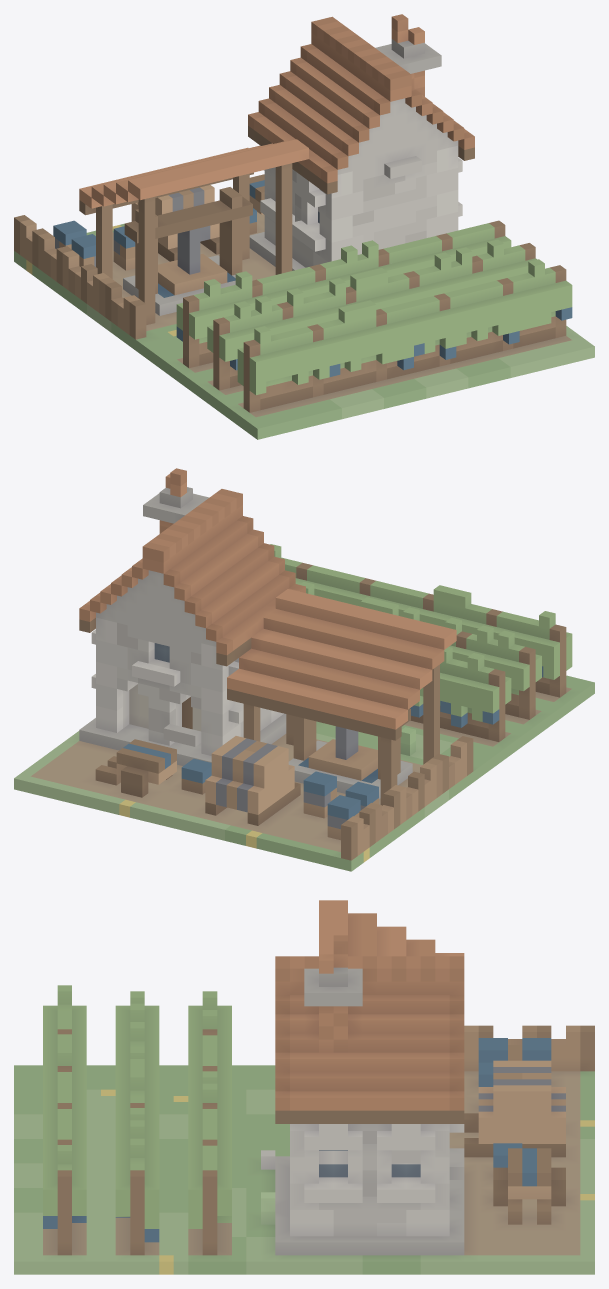
Rendered from vineyard.glb.
The picture shows the model from 3 angles, top to bottom: view 1: azimuth 30°, elevation 25°; view 2: azimuth 150°, elevation 25°; view 3: azimuth 270°, elevation 25°; orthographic projection. The views are drawn at different scales.
Visible parts, largest first — view 1: vineyard; view 2: vineyard; view 3: vineyard.
Boxes of the visible parts, x1,y1,x2,y2 form: vineyard: (14, 14, 594, 439); vineyard: (14, 468, 594, 871); vineyard: (14, 900, 594, 1274).
Bounding box in the file's own units: 4 × 2.88 × 5.
